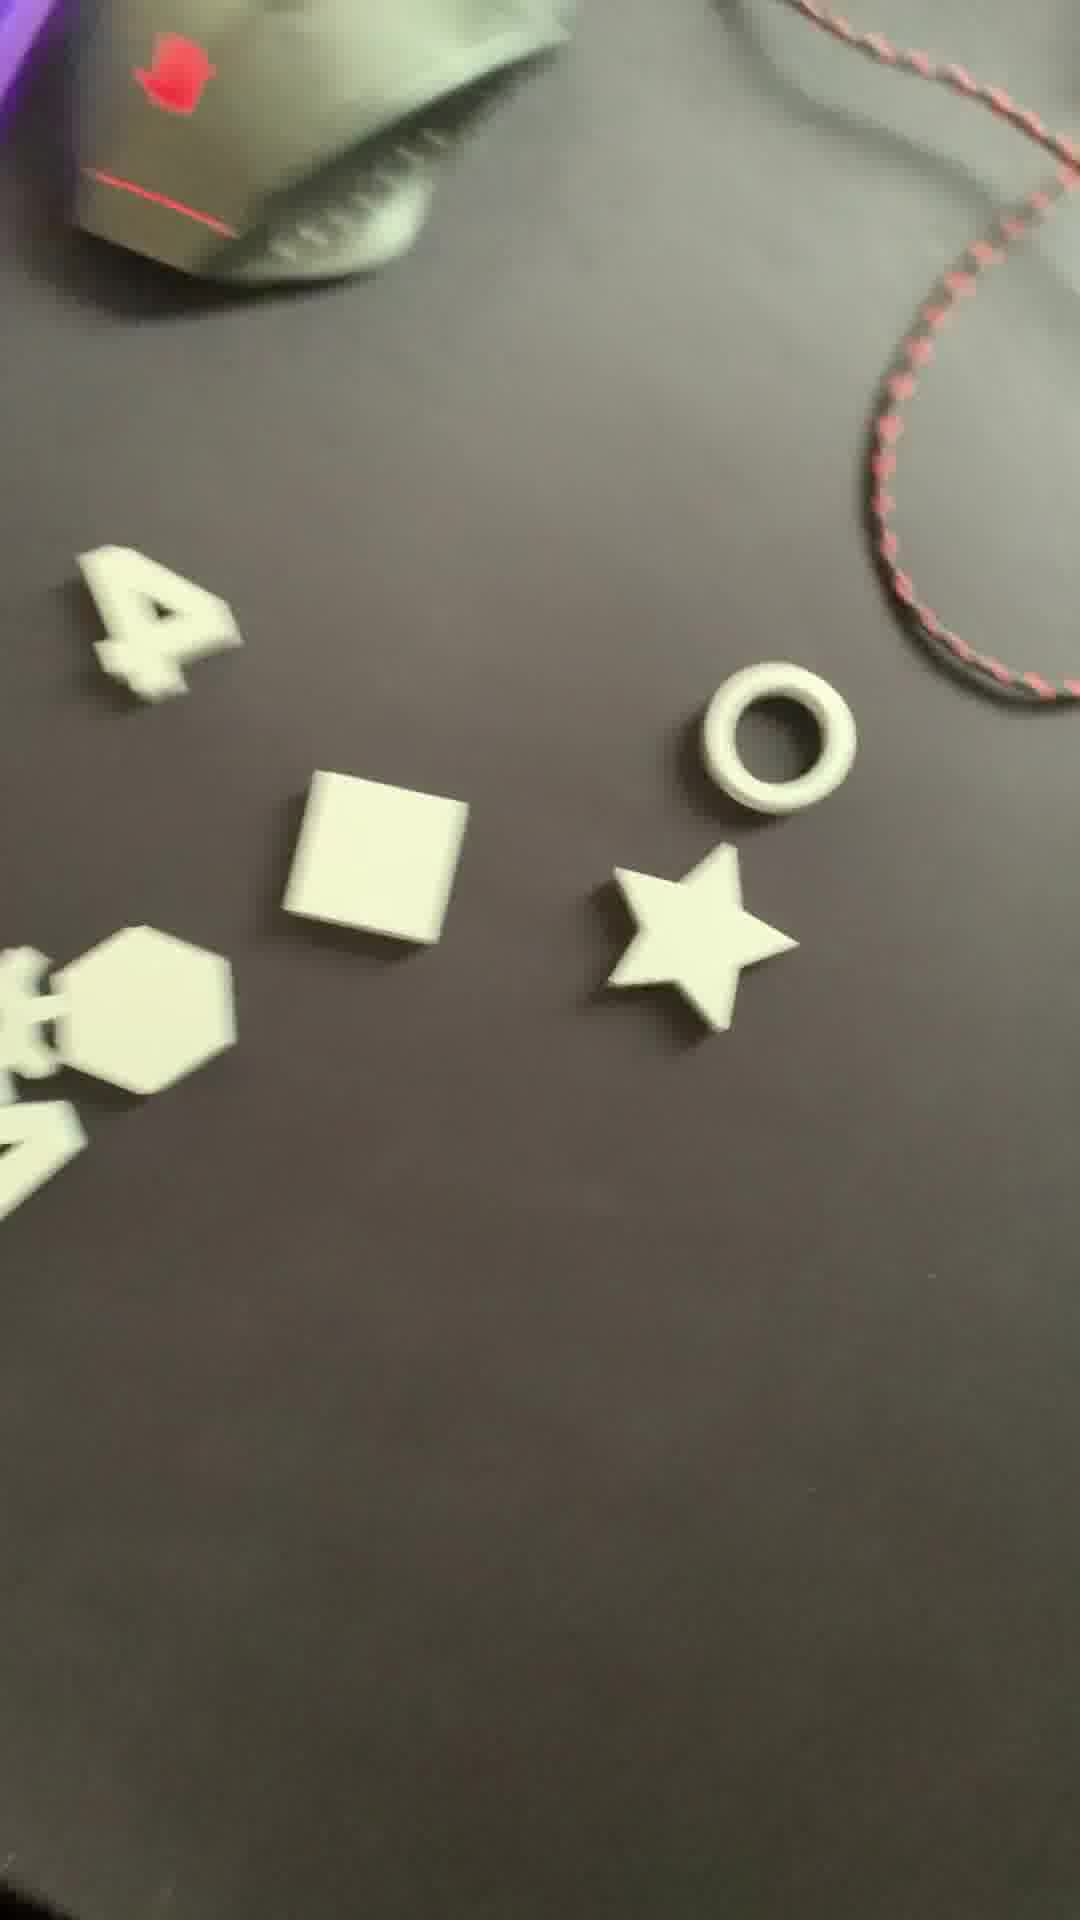Gray four: (78, 546, 239, 704)
Gray gear: (1, 938, 62, 1069)
Gray hexagon: (58, 922, 251, 1091)
Gray ring: (698, 663, 858, 810)
Gray square: (276, 761, 472, 938)
Gray star: (593, 844, 793, 1044)
